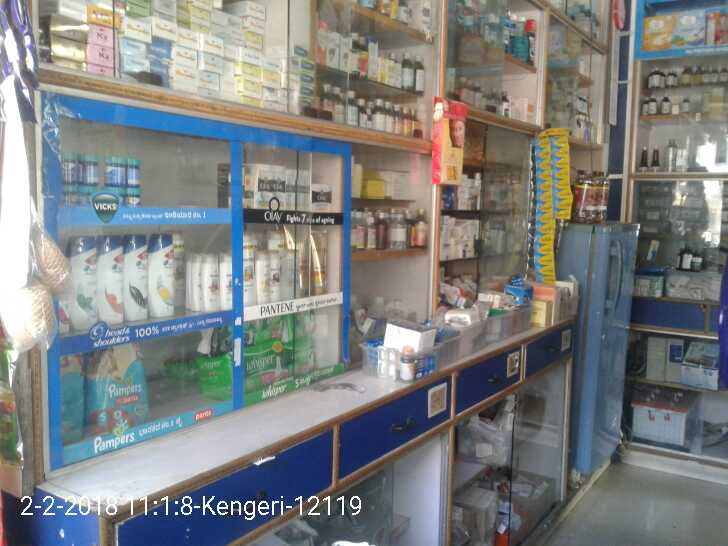beauty: (67, 233, 100, 332), (96, 241, 130, 320), (124, 230, 150, 326), (192, 241, 228, 308), (150, 229, 176, 315), (255, 248, 283, 299), (303, 169, 336, 207), (243, 233, 257, 311), (254, 160, 273, 213), (273, 166, 295, 209)
pharmacy: (82, 345, 154, 428), (202, 345, 292, 392), (94, 152, 145, 189), (60, 152, 97, 186)
